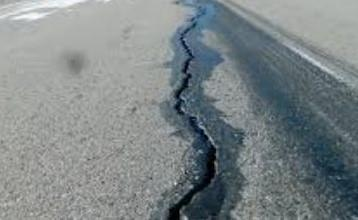crack: (166, 0, 221, 220)
